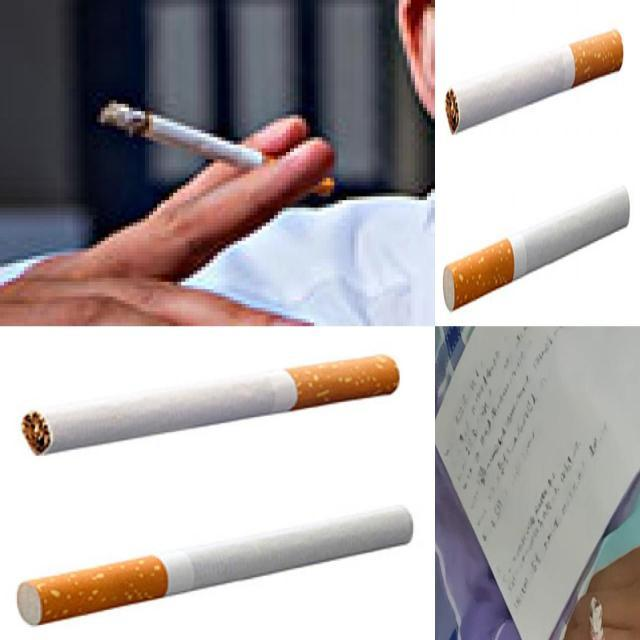smoking: (14, 502, 412, 625), (21, 354, 400, 456), (441, 184, 629, 310), (444, 29, 624, 134), (92, 92, 266, 168), (588, 594, 614, 640)
